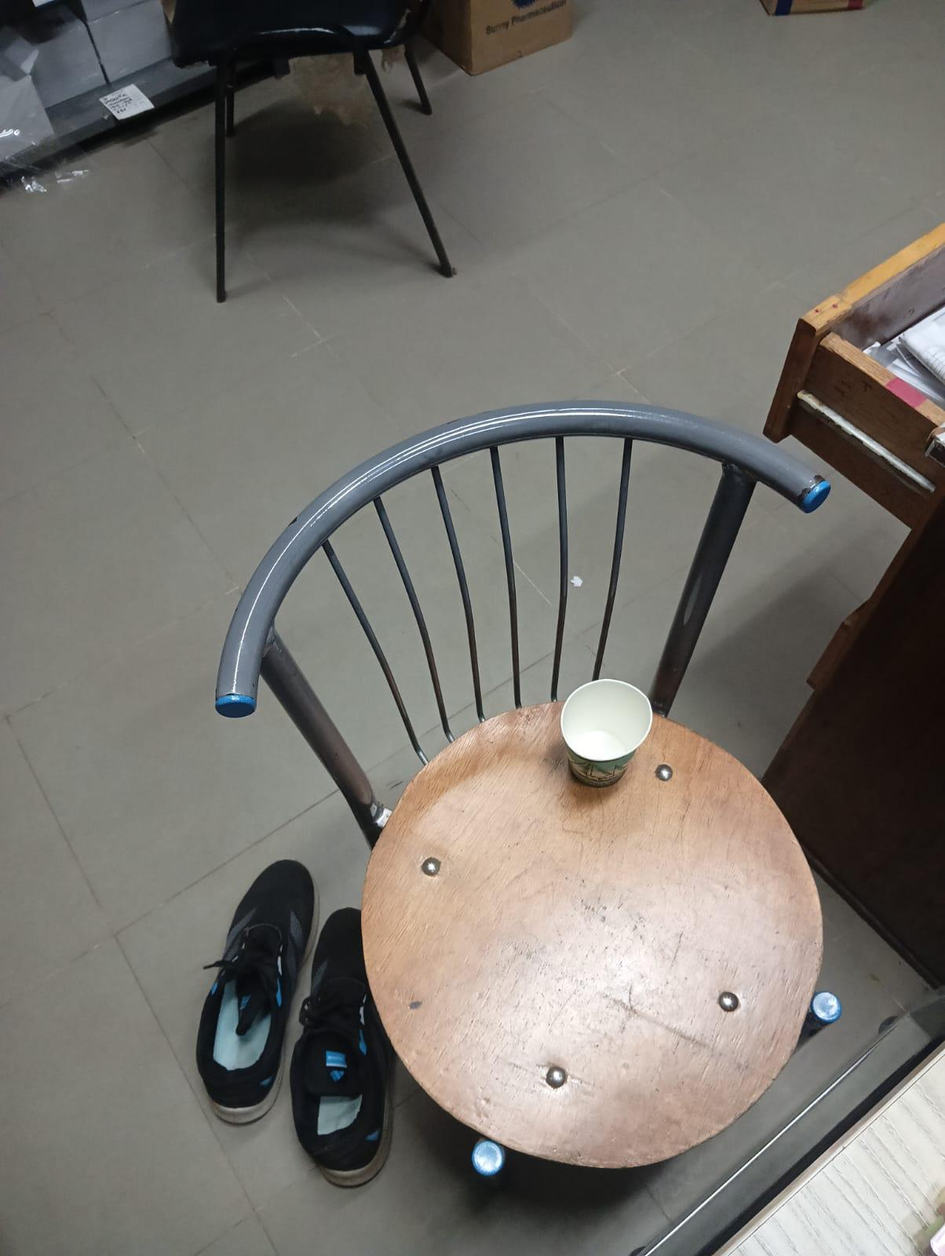cup: (560, 679, 652, 787), (572, 691, 635, 760)
